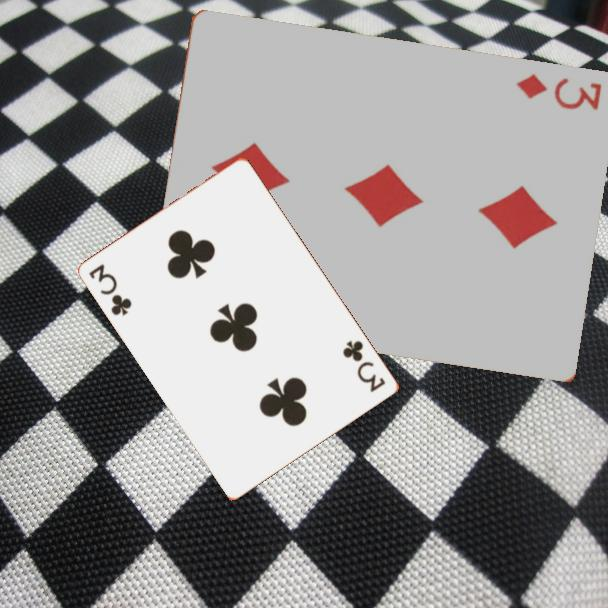c03: (339, 337, 389, 396), (86, 260, 135, 319)
d03: (512, 71, 604, 113)
